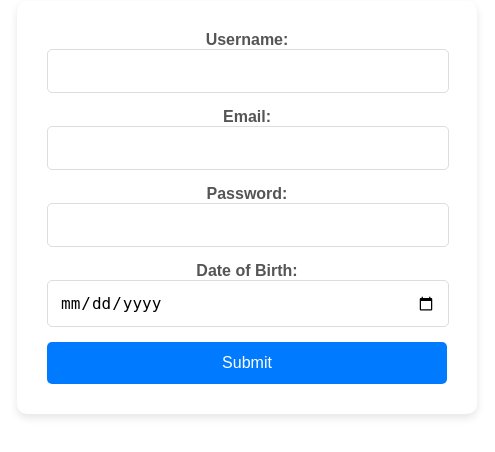
Test case: Form validation for empty or invalid data testing › Displays a validation message for a password that is too short
Type "Jakefake" into the field with id "username" at [248, 71], box [47,49,449,93]
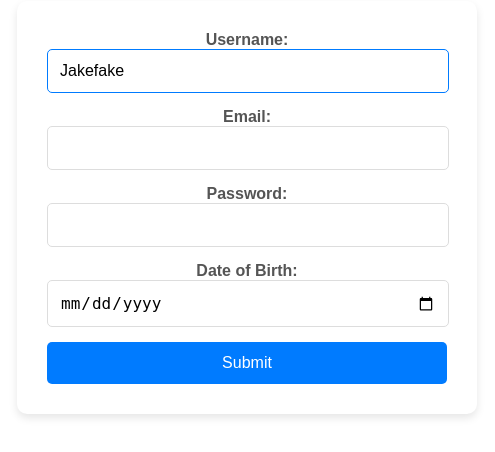
Type "jfake@bit.lt" into the field with id "email" at [248, 148], box [47,126,449,170]
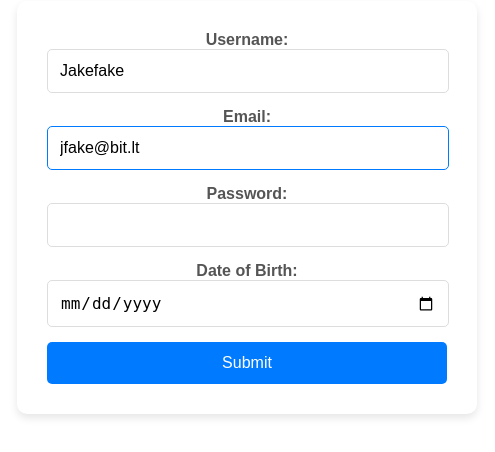
Type "123" into the password field at [248, 225], box [47,203,449,247]
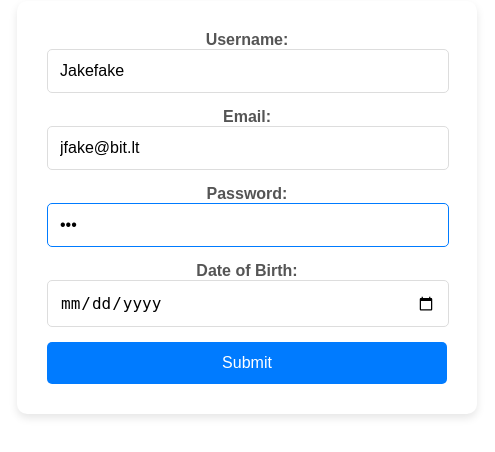
Type "2000-01-02" into the date field with id "dob" at [248, 304], box [47,280,449,327]
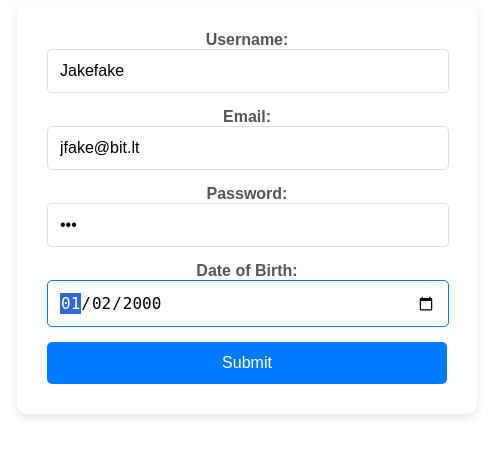
Click the button "Submit" at [247, 363], box [47,342,447,384]
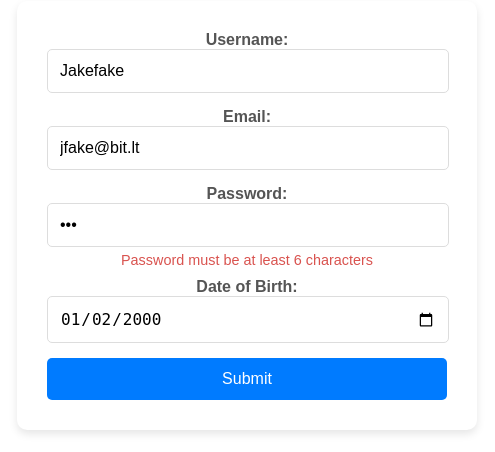
Result: the text with class "error" reads "Password must be at least 6 characters" at [121,252,373,268]
